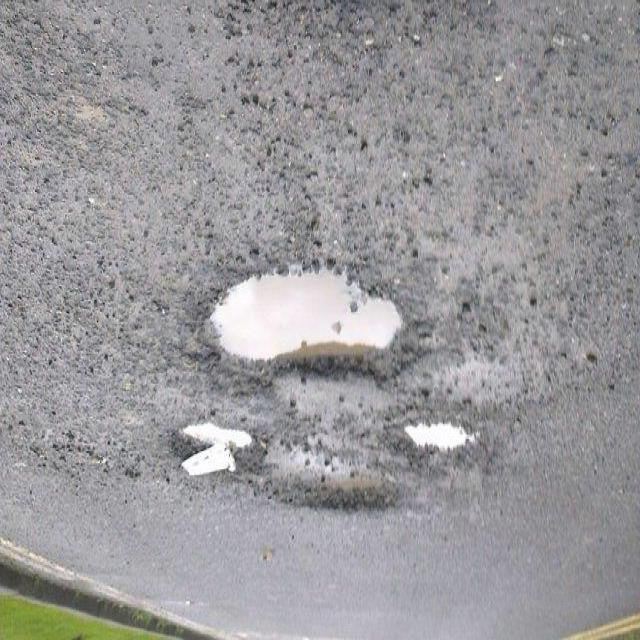lubang: (198, 266, 418, 384), (263, 433, 406, 523), (170, 424, 259, 482), (404, 420, 494, 470)
